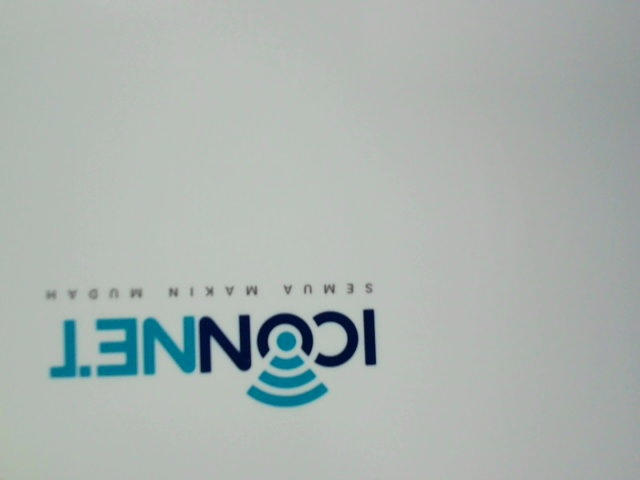BM_ICONNET: (32, 268, 400, 421)
